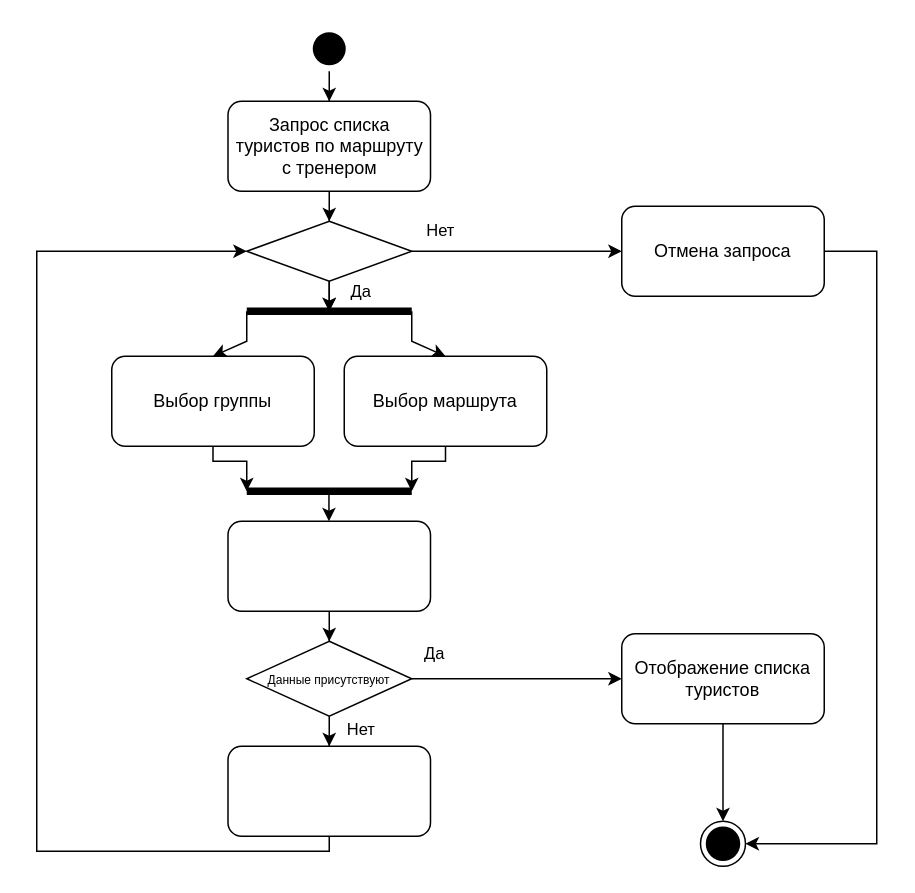
The diagram is 915 pixels wide and 893 high, and some of its shapes have lost their labels. Here are the shapes that lost their labels. From the top down, the box of each, then its label:
(245, 220, 412, 281): Ввод параметров
(226, 520, 430, 611): Проверка наличия данных
(226, 745, 430, 836): Сообщиение об отсутствии данных
